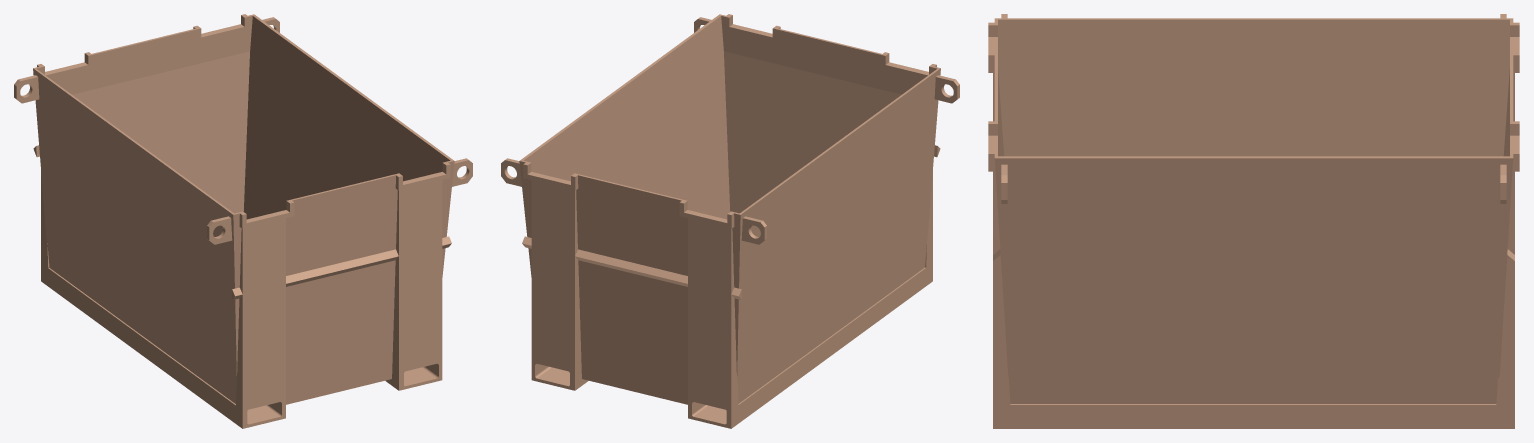
The model's file is KrätzekübelKlein3D.dae.
3 renders of one model, left to right at view 1: azimuth 30°, elevation 25°; view 2: azimuth 150°, elevation 25°; view 3: azimuth 270°, elevation 25°, orthographic. The views are drawn at different scales.
Parts seen in each view (by area): view 1: node0; view 2: node0; view 3: node0.
Part boxes in pixels (bbox=[...]): node0: bbox=[14, 14, 472, 428]; node0: bbox=[501, 14, 959, 428]; node0: bbox=[988, 14, 1519, 428].
Bounding box in the file's own units: 1.21 × 1.64 × 0.95.
